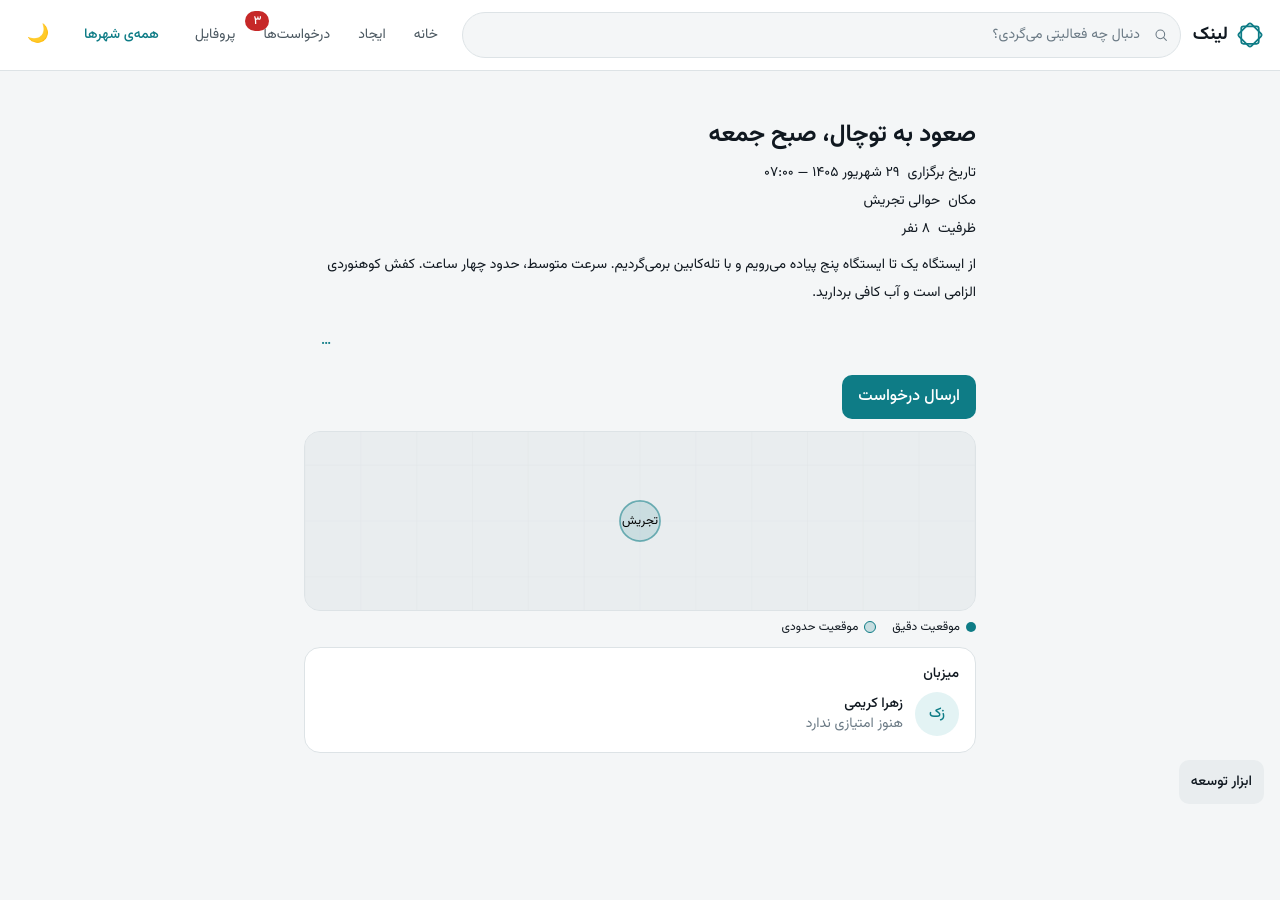
Test: US-70 / US-71 — reporting › ⚠️ offers the harvesting reason as its own category (AB-01, AR-02)
The width and height of the screenshot is (1280, 900).
Step 1. Click the button with test id "safety-menu" → (326, 341), box [304,319,348,363]
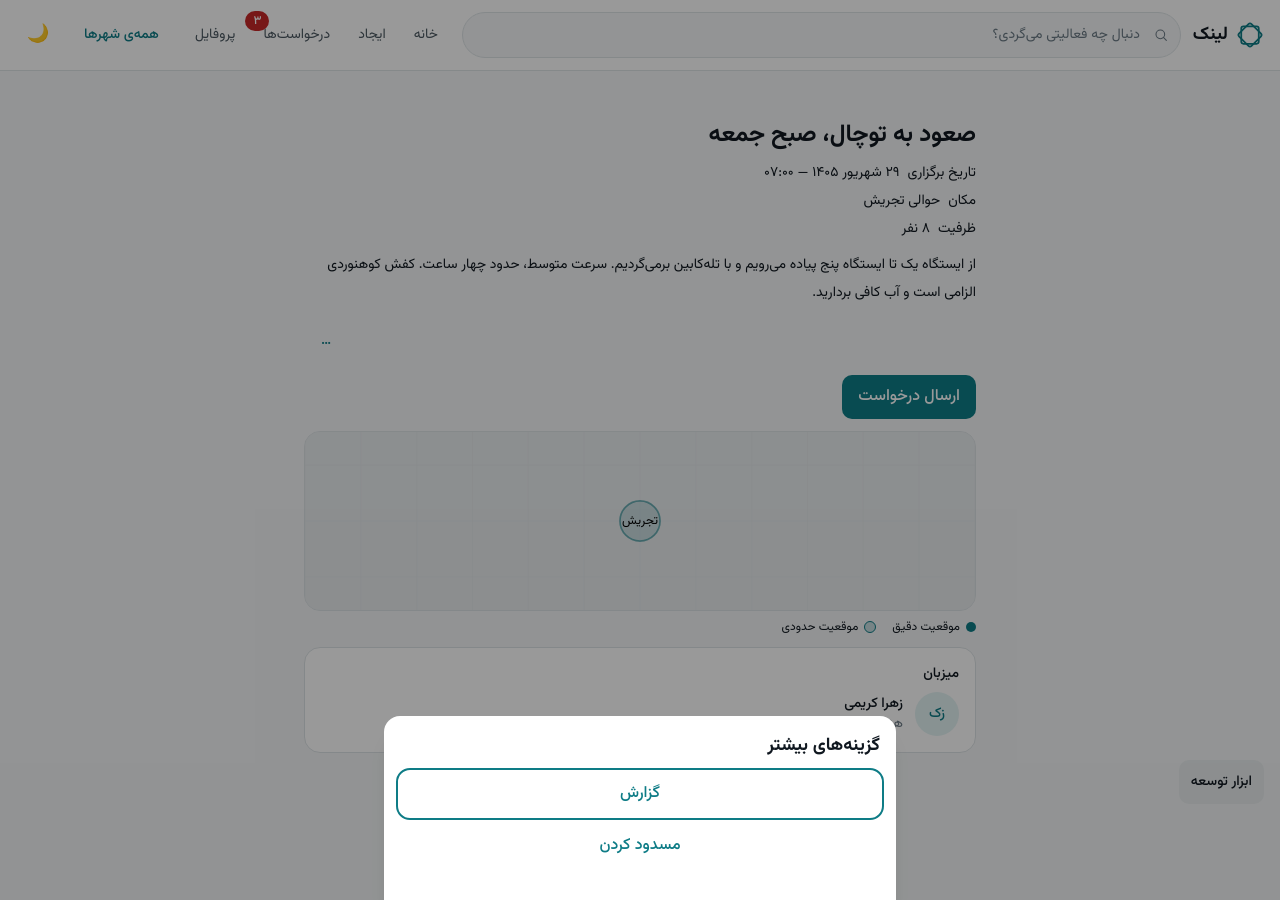
Step 2. Click the button with test id "safety-menu-report" → (640, 794), box [400,772,880,816]
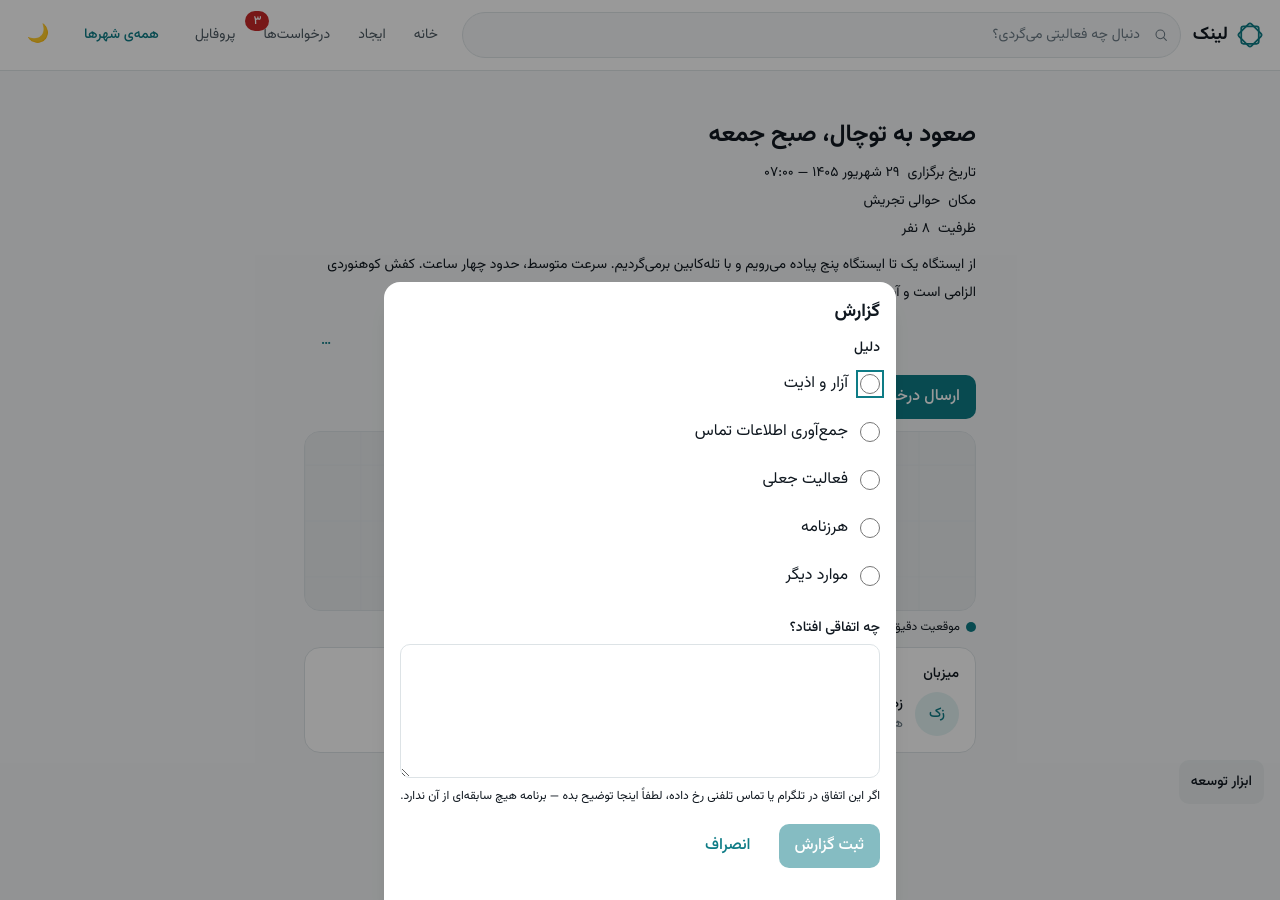
Now the element with test id "report-sheet" is shown
Now the radio button labelled "جمع‌آوری اطلاعات تماس" is shown, box [860,422,880,442]
Now the radio button labelled "فعالیت جعلی" is shown, box [860,470,880,490]
